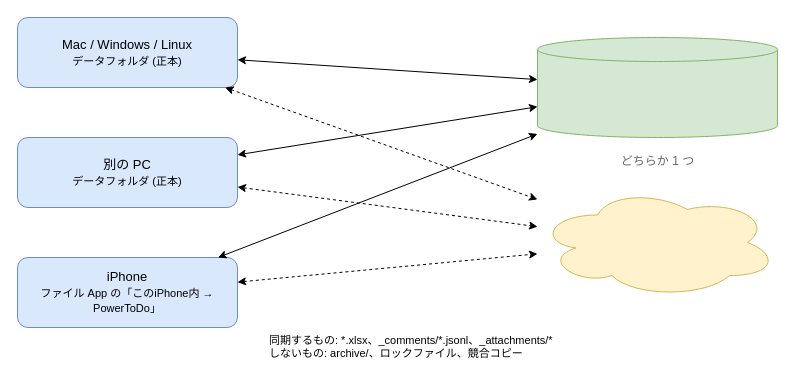
Image size: 805x385. Some labels were removed from this diagram. The shapes that lost their labels are listed below. From the top down, each one's centre as x and y in pixels, then its label:
At (657,87): "Synology NAS WebDAV、共有フォルダ powertodo Tailscale 経由".
At (657,242): "Google Drive PowerToDo フォルダ".
